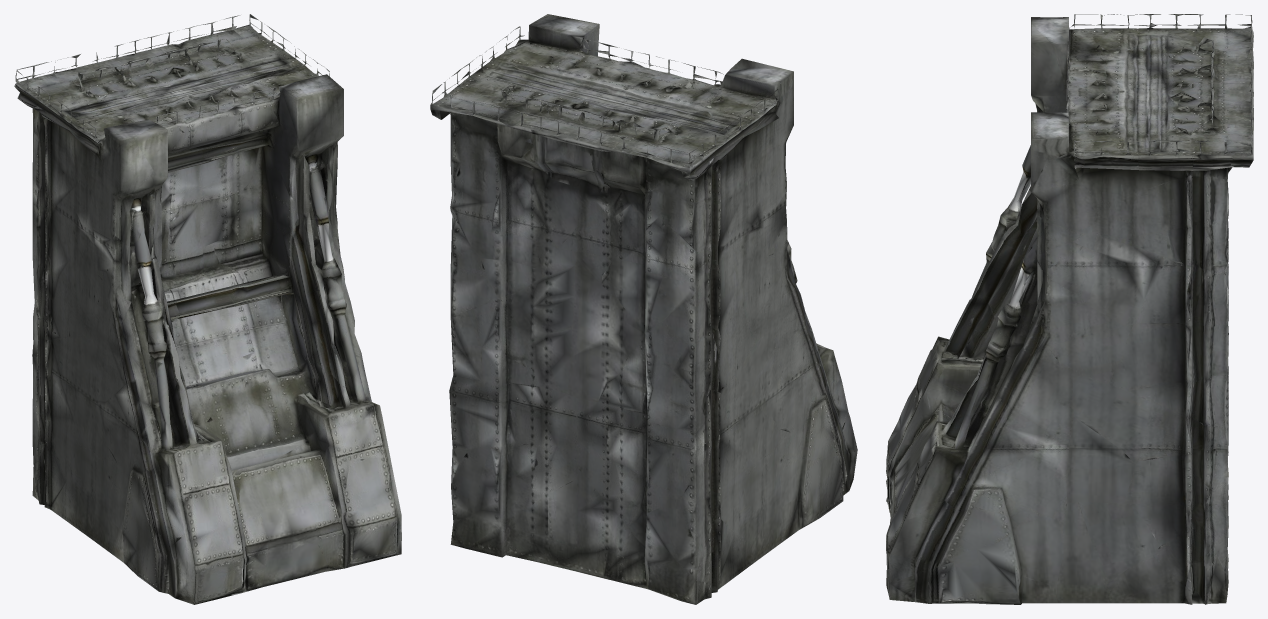
Rendered from dam_gate.glb.
The picture shows the model from 3 angles, left to right: view 1: azimuth 30°, elevation 25°; view 2: azimuth 150°, elevation 25°; view 3: azimuth 270°, elevation 25°; orthographic projection. The views are drawn at different scales.
Parts seen in each view (by area): view 1: dam_gate; view 2: dam_gate; view 3: dam_gate.
Boxes of the visible parts, left/top/right/bottom form: dam_gate: left=14, top=14, right=401, bottom=604; dam_gate: left=430, top=14, right=857, bottom=604; dam_gate: left=886, top=14, right=1253, bottom=604.
Size of the model in its own units: 1.12 by 1.9 by 1.36.
1 material, 1 textured.
